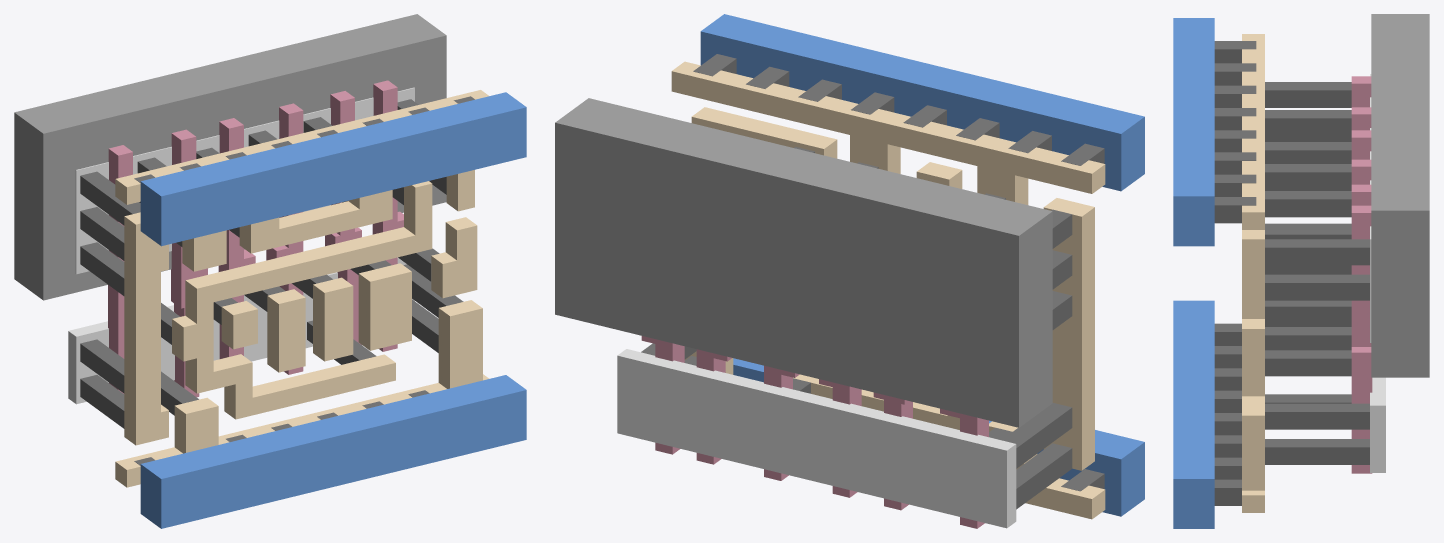
The model's file is sky130_fd_sc_hd__a32o_1.gds.gltf.
The picture shows the model from 3 angles, left to right: view 1: azimuth 30°, elevation 25°; view 2: azimuth 150°, elevation 25°; view 3: azimuth 270°, elevation 25°; orthographic projection. The views are drawn at different scales.
Parts seen in each view (by area): view 1: sky130_fd_sc_hd__a32o_1_li1, sky130_fd_sc_hd__a32o_1_met1, sky130_fd_sc_hd__a32o_1_nwell, sky130_fd_sc_hd__a32o_1_licon, sky130_fd_sc_hd__a32o_1_poly, sky130_fd_sc_hd__a32o_1_diff, sky130_fd_sc_hd__a32o_1_mcon; view 2: sky130_fd_sc_hd__a32o_1_nwell, sky130_fd_sc_hd__a32o_1_diff, sky130_fd_sc_hd__a32o_1_li1, sky130_fd_sc_hd__a32o_1_met1, sky130_fd_sc_hd__a32o_1_licon, sky130_fd_sc_hd__a32o_1_mcon, sky130_fd_sc_hd__a32o_1_poly; view 3: sky130_fd_sc_hd__a32o_1_licon, sky130_fd_sc_hd__a32o_1_nwell, sky130_fd_sc_hd__a32o_1_met1, sky130_fd_sc_hd__a32o_1_mcon, sky130_fd_sc_hd__a32o_1_li1, sky130_fd_sc_hd__a32o_1_poly, sky130_fd_sc_hd__a32o_1_diff.
Boxes of the visible parts, left/top/right/bottom form: sky130_fd_sc_hd__a32o_1_li1: left=115, top=90, right=489, bottom=487; sky130_fd_sc_hd__a32o_1_met1: left=140, top=92, right=526, bottom=528; sky130_fd_sc_hd__a32o_1_nwell: left=14, top=14, right=446, bottom=300; sky130_fd_sc_hd__a32o_1_licon: left=80, top=99, right=463, bottom=428; sky130_fd_sc_hd__a32o_1_poly: left=108, top=80, right=403, bottom=397; sky130_fd_sc_hd__a32o_1_diff: left=68, top=87, right=414, bottom=404; sky130_fd_sc_hd__a32o_1_mcon: left=134, top=96, right=474, bottom=465; sky130_fd_sc_hd__a32o_1_nwell: left=555, top=98, right=1052, bottom=427; sky130_fd_sc_hd__a32o_1_diff: left=617, top=349, right=1016, bottom=528; sky130_fd_sc_hd__a32o_1_li1: left=671, top=61, right=1105, bottom=519; sky130_fd_sc_hd__a32o_1_met1: left=700, top=14, right=1144, bottom=516; sky130_fd_sc_hd__a32o_1_licon: left=641, top=147, right=1072, bottom=509; sky130_fd_sc_hd__a32o_1_mcon: left=693, top=54, right=1104, bottom=491; sky130_fd_sc_hd__a32o_1_poly: left=641, top=336, right=988, bottom=528; sky130_fd_sc_hd__a32o_1_licon: left=1265, top=82, right=1369, bottom=464; sky130_fd_sc_hd__a32o_1_nwell: left=1371, top=14, right=1429, bottom=377; sky130_fd_sc_hd__a32o_1_met1: left=1173, top=18, right=1214, bottom=528; sky130_fd_sc_hd__a32o_1_mcon: left=1214, top=41, right=1256, bottom=505; sky130_fd_sc_hd__a32o_1_li1: left=1242, top=34, right=1264, bottom=512; sky130_fd_sc_hd__a32o_1_poly: left=1351, top=76, right=1372, bottom=473; sky130_fd_sc_hd__a32o_1_diff: left=1370, top=74, right=1385, bottom=472.
Bounding box in the file's own units: 4.06 × 3.2 × 2.24.
